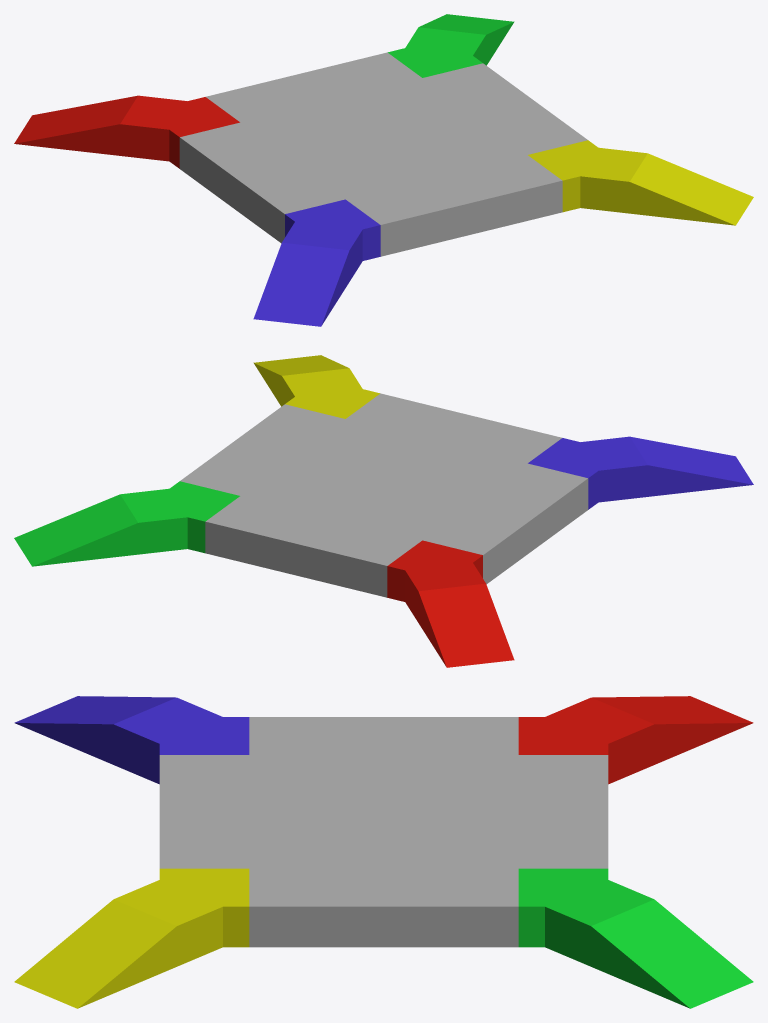
File: platform.dae
3 renders of one model, top to bottom at view 1: azimuth 30°, elevation 25°; view 2: azimuth 150°, elevation 25°; view 3: azimuth 270°, elevation 25°, orthographic. The views are drawn at different scales.
Visible parts, largest first — view 1: node83; view 2: node83; view 3: node83.
Part boxes in pixels (x1,y1,x2,y2): node83: (14, 14, 753, 326); node83: (14, 355, 753, 667); node83: (14, 696, 753, 1008).
Bounding box in the file's own units: 10.06 × 10.06 × 0.6096.
